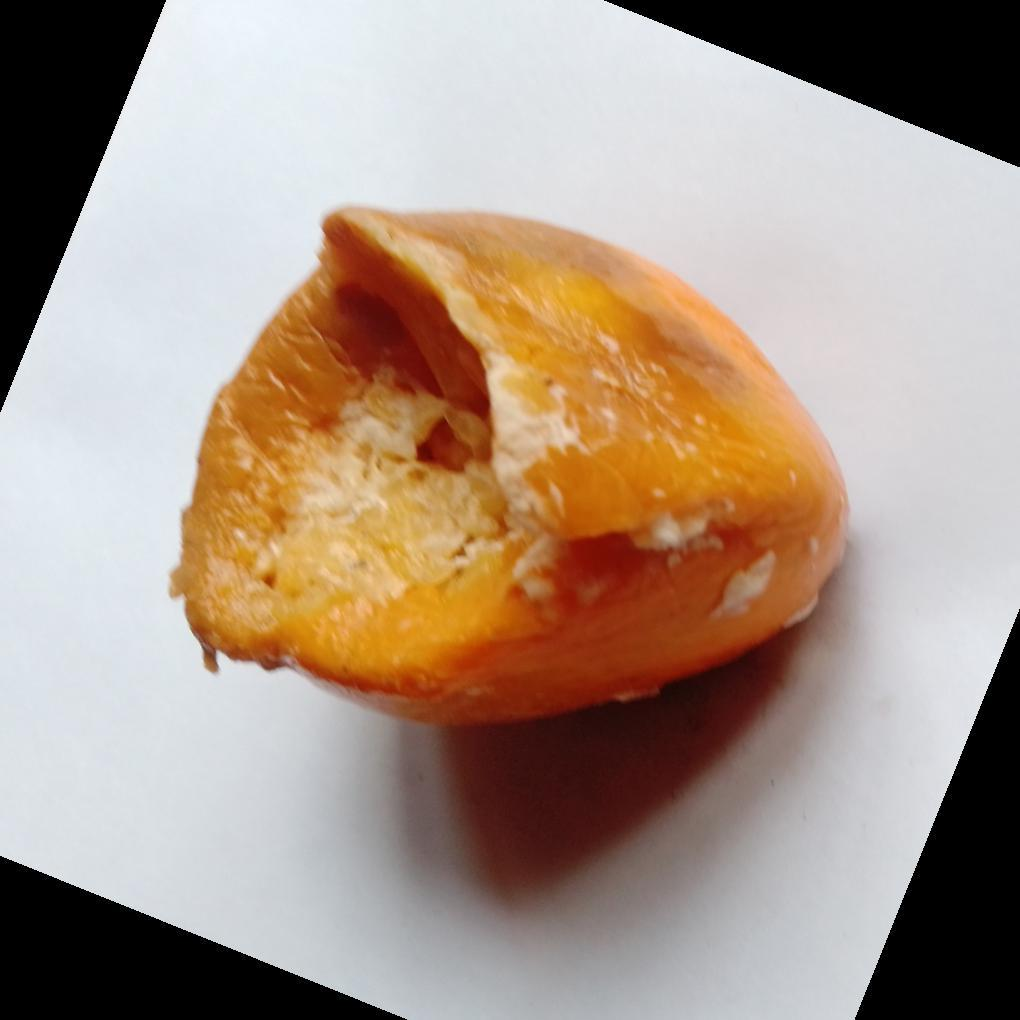FreshOrange: (167, 206, 851, 731)
